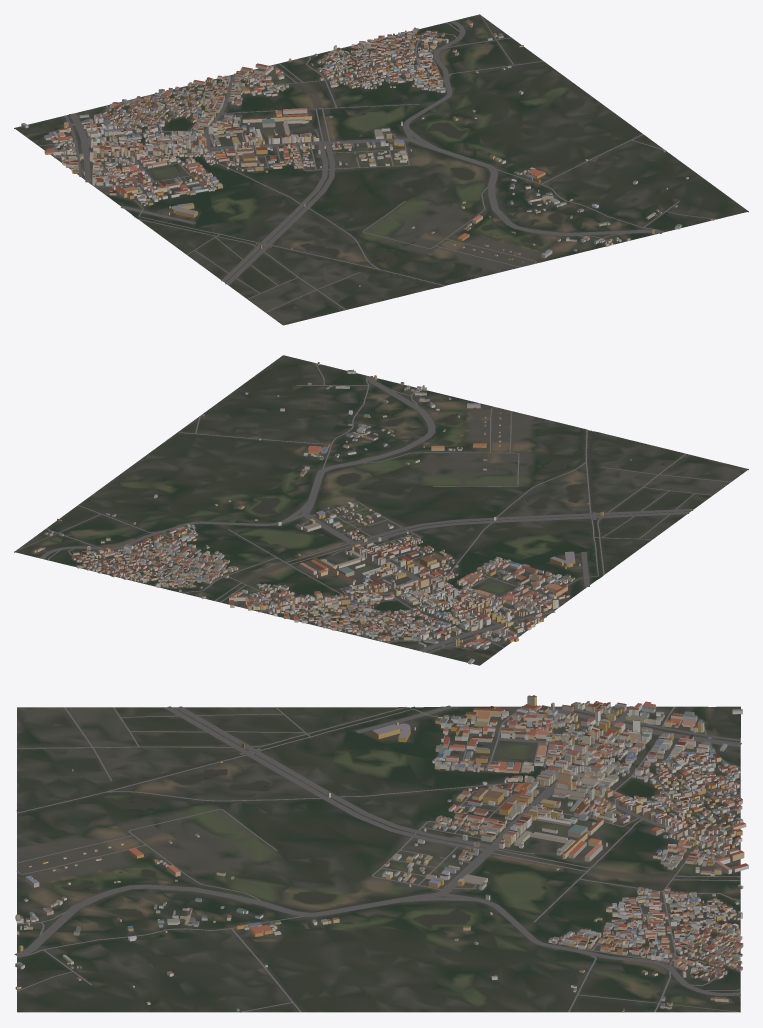
3 views of the same model, one above another, from view 1: azimuth 30°, elevation 25°; view 2: azimuth 150°, elevation 25°; view 3: azimuth 270°, elevation 25° (orthographic). The views are drawn at different scales.
Visible parts, largest first — view 1: ground, buildings, roads, water; view 2: ground, buildings, roads, water; view 3: ground, buildings, roads, water.
Part boxes in pixels (box(x1,y1,x2,y2)): ground: box(14, 14, 748, 325); buildings: box(21, 19, 714, 286); roads: box(38, 14, 716, 312); water: box(134, 122, 562, 287); ground: box(14, 355, 748, 665); buildings: box(34, 362, 631, 664); roads: box(14, 363, 730, 653); water: box(252, 413, 601, 577); ground: box(17, 706, 740, 1012); buildings: box(15, 695, 748, 1012); roads: box(14, 705, 741, 1012); water: box(16, 706, 470, 927).
Size of the model in its own units: 1413 by 31.43 by 1424.
